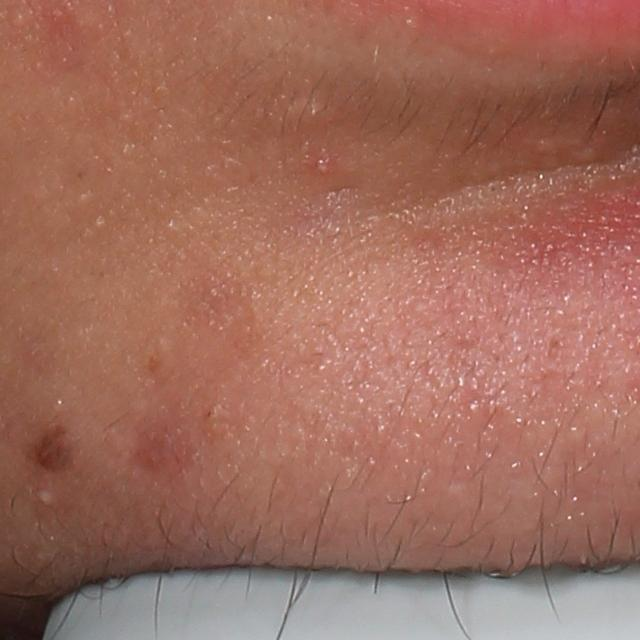nevus: (29, 418, 82, 478)
pustule: (26, 486, 65, 513)
